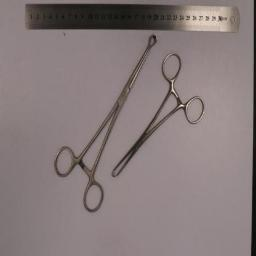Allis Tissue Forceps: (112, 52, 204, 178)
